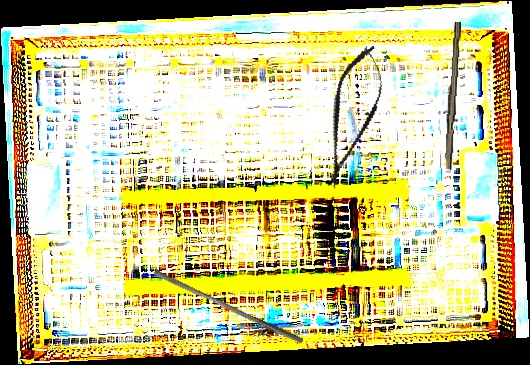Micro Scissor: (310, 39, 394, 195)
Pusher: (150, 268, 307, 345)
Scalpel Handle: (442, 21, 462, 170)
